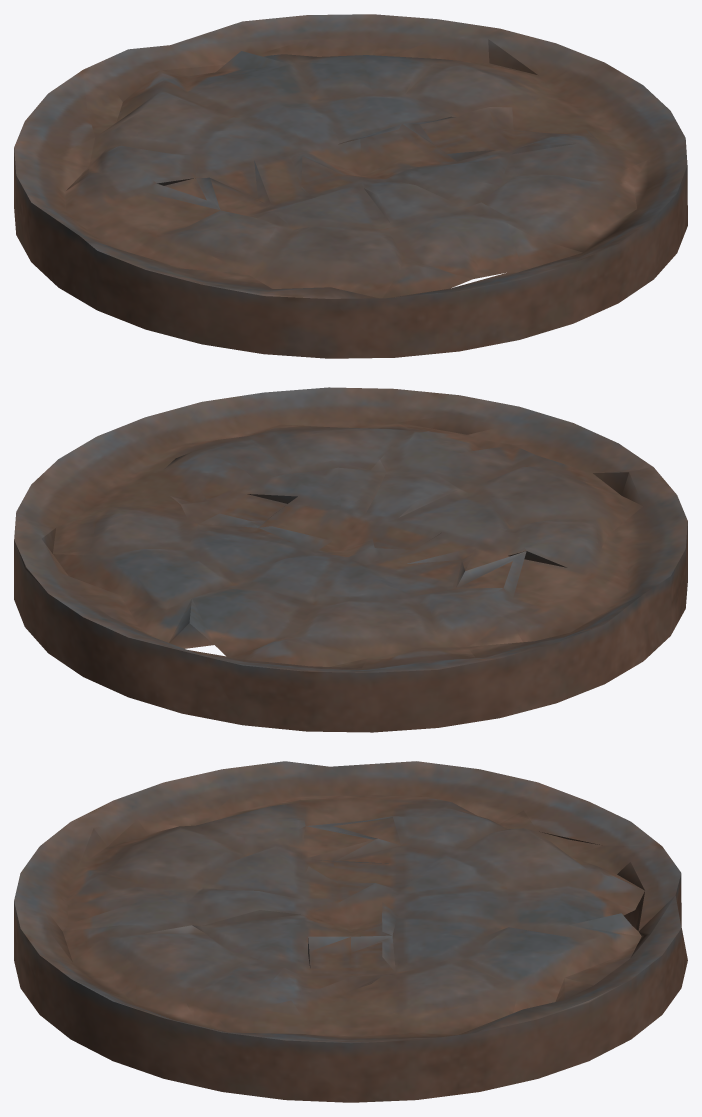
Rendered from manhole.glb.
The picture shows the model from 3 angles, top to bottom: view 1: azimuth 30°, elevation 25°; view 2: azimuth 150°, elevation 25°; view 3: azimuth 270°, elevation 25°; orthographic projection.
Parts seen in each view (by area): view 1: mesh; view 2: mesh; view 3: mesh.
Part boxes in pixels (left/top/right/bottom): mesh: left=14, top=14, right=687, bottom=358; mesh: left=14, top=387, right=687, bottom=732; mesh: left=14, top=761, right=687, bottom=1102.
Bounding box in the file's own units: 0.6846 × 0.0676 × 0.6846.
Materials: 1 (1 with a texture image).
